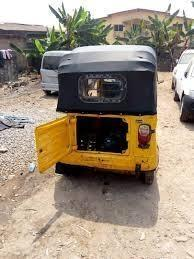keke: (27, 43, 160, 189)
